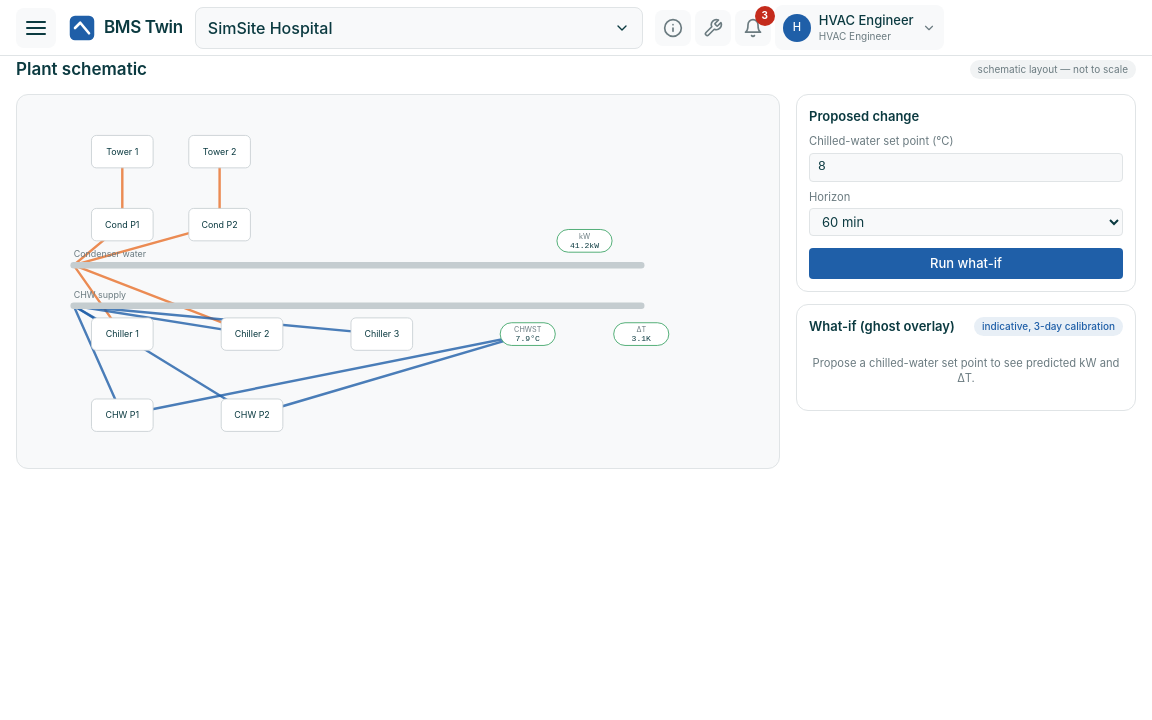
Test: PlantSchematic what-if overlay (WIF1) › labels the overlay indicative and posts the proposed set point
Check: the text with test id "whatif-label" reads "indicative, 3-day calibration", box [982,320,1115,332]
Click the button "Run what-if". click: (966, 264)
box: [809,248,1123,279]
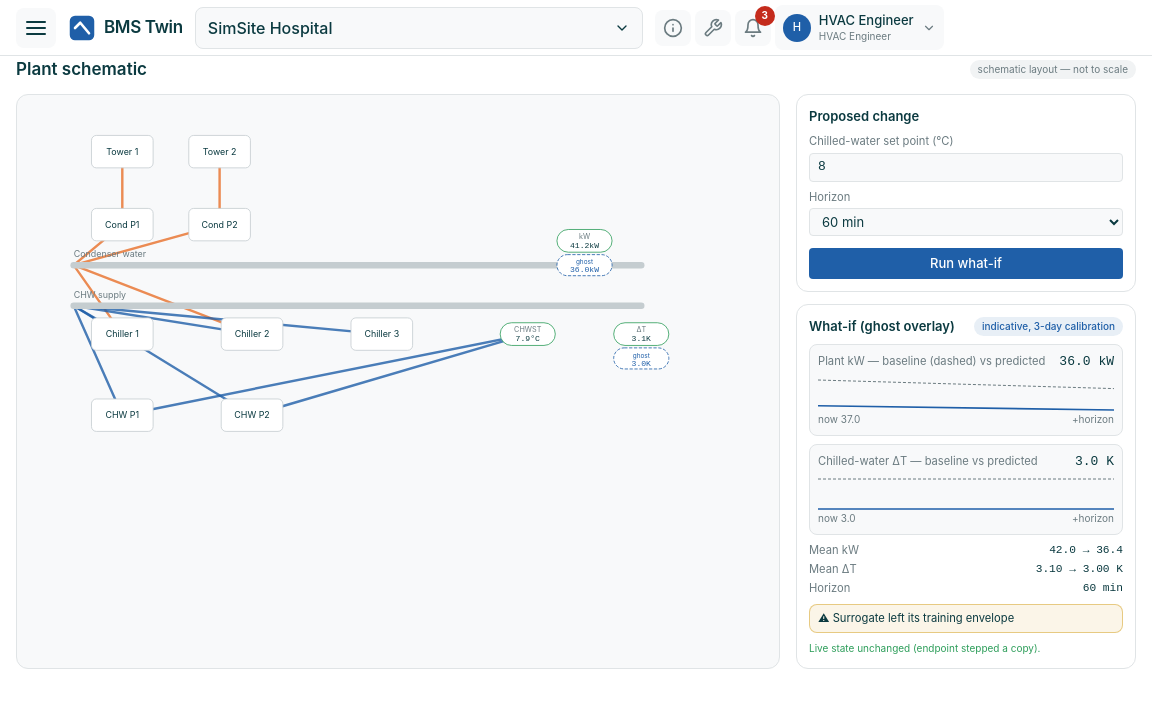
Check: the text with test id "whatif-kw-predicted" shows "36.0", box [1059,354,1091,369]
Check: the text with test id "whatif-delta-predicted" reads "3.0 K", box [1075,453,1114,471]
Check: the text with test id "whatif-warning" shows "training envelope", box [833,611,1014,625]
